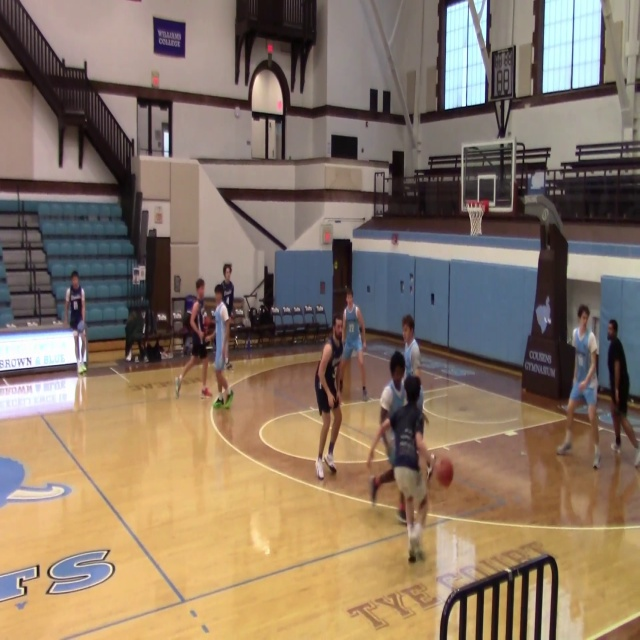Basketball: (434, 457, 453, 487)
